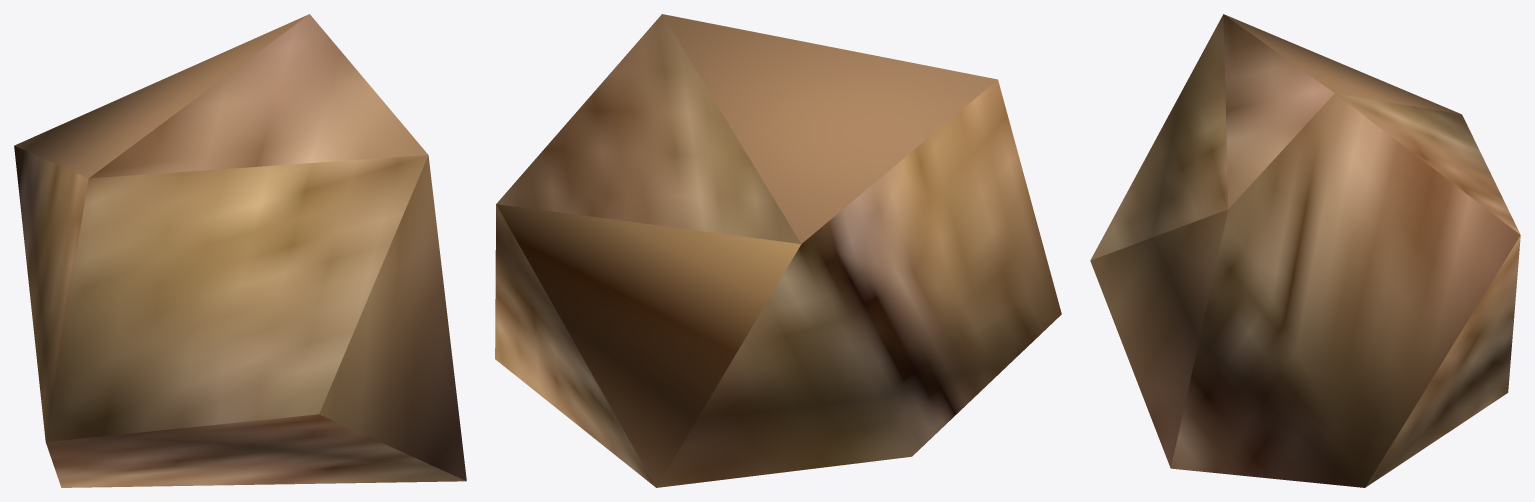
Rendered from stage_Rock.fbx.
The picture shows the model from 3 angles, left to right: view 1: azimuth 30°, elevation 25°; view 2: azimuth 150°, elevation 25°; view 3: azimuth 270°, elevation 25°; orthographic projection. The views are drawn at different scales.
Visible parts, largest first — view 1: Landscape.015; view 2: Landscape.015; view 3: Landscape.015.
Boxes of the visible parts, bbox=[...] form: Landscape.015: bbox=[14, 14, 466, 487]; Landscape.015: bbox=[495, 14, 1061, 487]; Landscape.015: bbox=[1090, 14, 1520, 487].
Bounding box in the file's own units: 383 × 302 × 337.
1 material, 1 textured.
